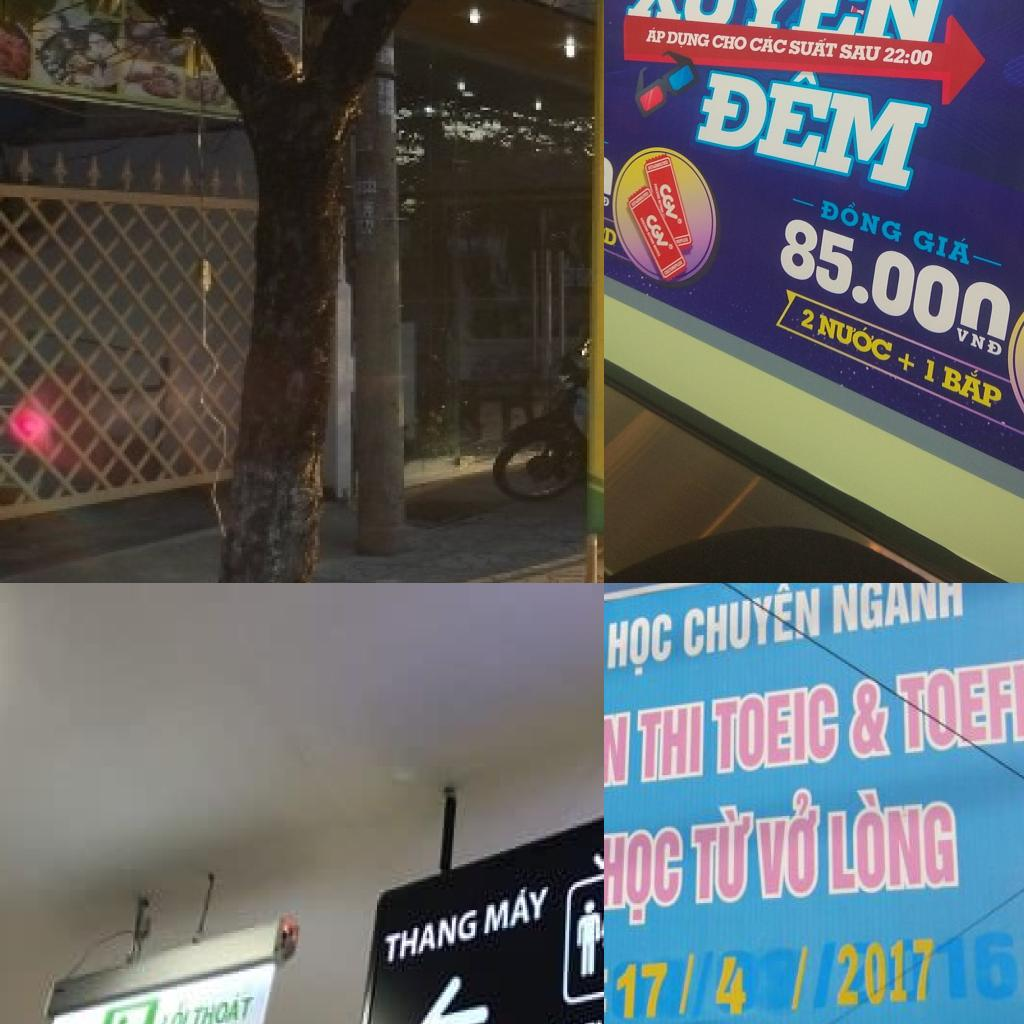text: (774, 216, 1015, 358), (692, 58, 939, 191), (826, 780, 958, 895), (625, 0, 964, 44), (893, 657, 1024, 756), (711, 679, 841, 777), (683, 583, 821, 660), (604, 824, 686, 930), (757, 788, 825, 904), (822, 583, 965, 638), (686, 799, 754, 908), (835, 937, 934, 1009), (935, 927, 1022, 1004), (382, 905, 480, 969), (635, 698, 706, 785), (607, 613, 674, 683), (484, 879, 556, 941), (818, 195, 905, 244), (816, 310, 895, 363), (614, 958, 675, 1022), (604, 696, 634, 817), (848, 674, 889, 762), (942, 357, 1007, 411), (189, 987, 258, 1024), (714, 952, 750, 1021), (909, 226, 970, 265), (786, 947, 810, 1016), (957, 327, 1004, 357), (676, 953, 697, 1019), (789, 36, 838, 57), (159, 997, 192, 1024), (644, 214, 670, 247), (666, 31, 711, 50), (747, 34, 788, 54), (839, 44, 884, 62), (658, 184, 680, 220), (711, 34, 748, 51), (896, 351, 915, 373), (800, 308, 816, 331), (644, 28, 666, 44), (923, 359, 937, 383), (604, 224, 618, 246), (604, 190, 611, 208)
